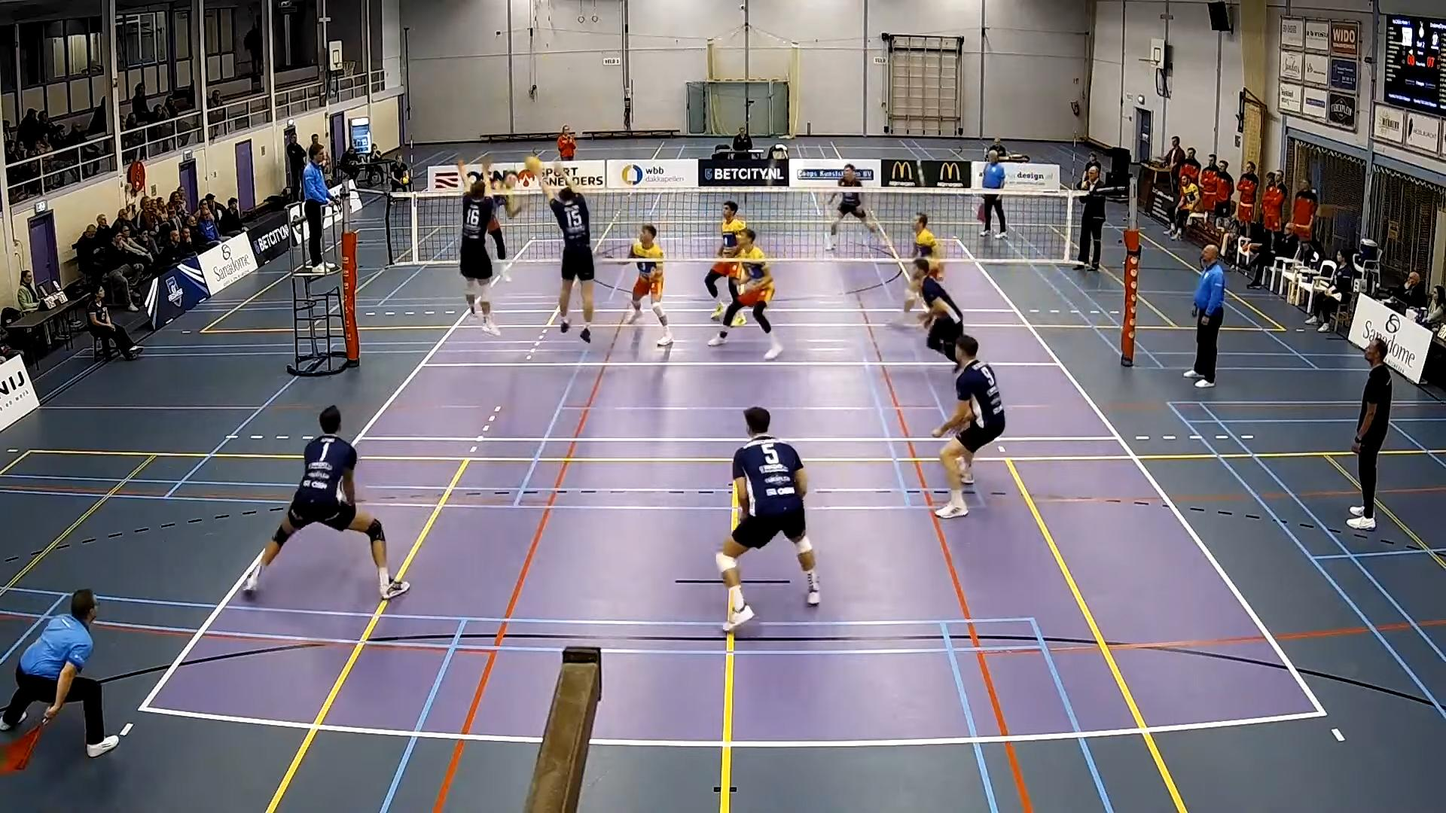Attack: (481, 152, 533, 284)
Block: (535, 165, 598, 346), (456, 152, 508, 331)
Player: (244, 406, 409, 599), (716, 407, 819, 631), (933, 335, 1005, 518), (708, 228, 782, 360), (911, 257, 962, 371), (627, 224, 673, 346), (705, 200, 746, 320), (826, 164, 877, 250), (914, 214, 941, 277)
ball: (525, 156, 546, 173)
